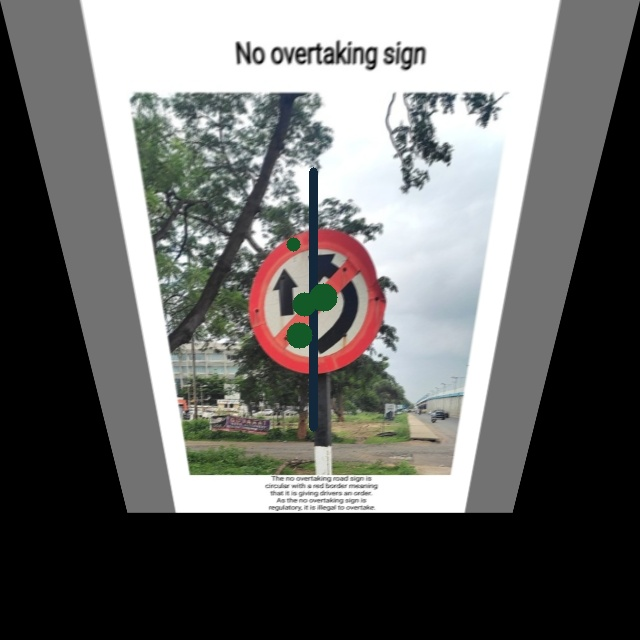Overtaking_Prohibited: (246, 226, 389, 374)
